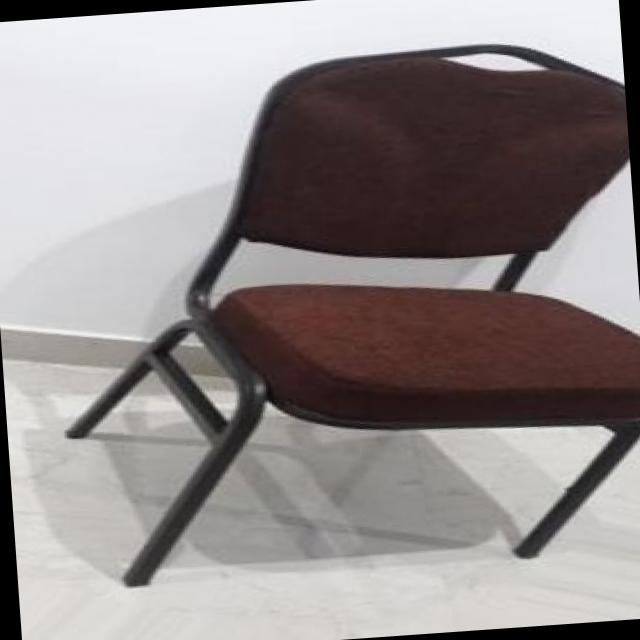Chair: (33, 27, 640, 598)
